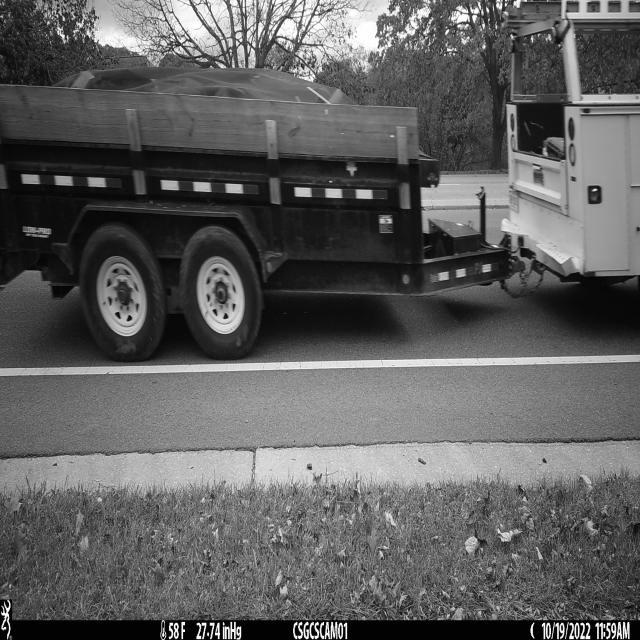Box Truck: (0, 69, 520, 365)
